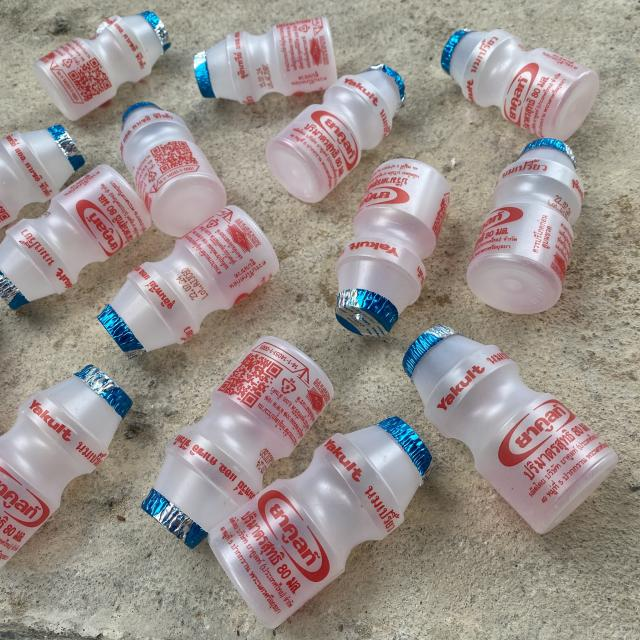Single-Use-Plastic: (208, 418, 431, 629), (404, 325, 618, 534), (141, 336, 334, 548), (99, 206, 279, 356), (0, 365, 132, 568), (0, 165, 151, 308), (466, 139, 584, 314), (335, 159, 450, 336), (266, 64, 405, 202), (441, 29, 599, 141), (34, 11, 170, 120), (120, 102, 226, 236), (195, 18, 338, 104), (0, 125, 82, 228)
